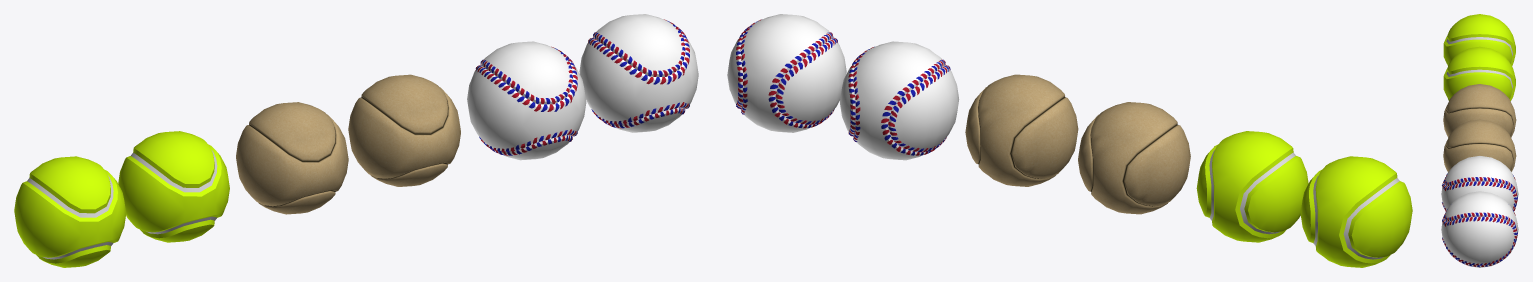
File: balls.glb
3 views of the same model, side by side, from view 1: azimuth 30°, elevation 25°; view 2: azimuth 150°, elevation 25°; view 3: azimuth 270°, elevation 25° (orthographic). The views are drawn at different scales.
Parts seen in each view (by area): view 1: BaseballV1.001, BaseballV1, TennisV2, TennisV2.001, TennisV1, TennisV1.001; view 2: BaseballV1.001, BaseballV1, TennisV2.001, TennisV2, TennisV1, TennisV1.001; view 3: BaseballV1, BaseballV1.001, TennisV1.001, TennisV2.001, TennisV2, TennisV1.
Part boxes in pixels (x1,y1,x2,y2): BaseballV1.001: (467,41,586,160); BaseballV1: (579,14,698,132); TennisV2: (236,102,348,214); TennisV2.001: (348,74,460,186); TennisV1: (14,156,126,267); TennisV1.001: (118,131,229,242); BaseballV1.001: (840,41,959,160); BaseballV1: (727,14,846,132); TennisV2.001: (965,74,1078,186); TennisV2: (1078,102,1190,214); TennisV1: (1300,156,1412,267); TennisV1.001: (1196,131,1308,242); BaseballV1: (1441,191,1518,267); BaseballV1.001: (1441,156,1518,211); TennisV1.001: (1443,46,1515,101); TennisV2.001: (1443,119,1516,172); TennisV2: (1443,84,1516,137); TennisV1: (1443,14,1515,65).
Bounding box in the file's own units: 3.75 × 0.5795 × 0.5795.
Materials: 3 (3 with a texture image).
